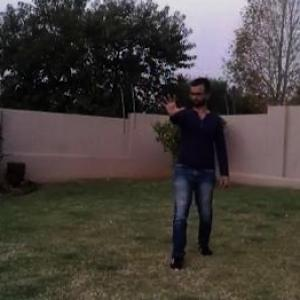follow_hand: (157, 89, 184, 116)
